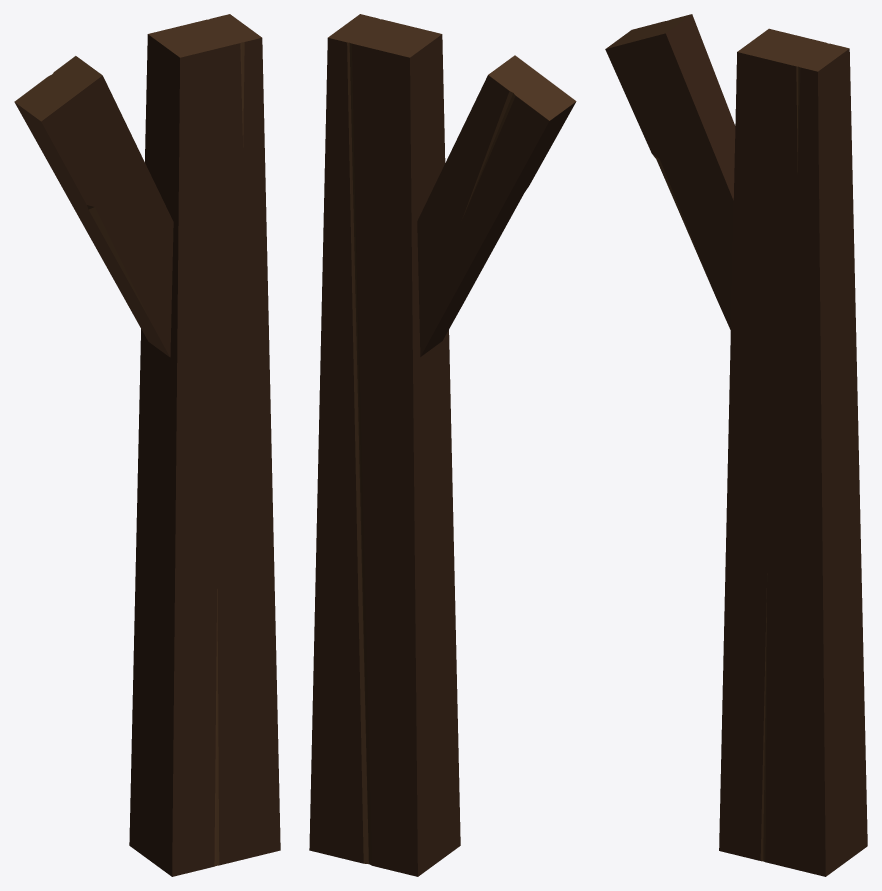
Rendered from Cave_Lair_Wooden_Timber_Beam_02.fbx.
3 renders of one model, left to right at view 1: azimuth 30°, elevation 25°; view 2: azimuth 150°, elevation 25°; view 3: azimuth 330°, elevation 25°, orthographic.
Visible parts, largest first — view 1: Cave_Lair_Wooden_Timber_Beam_02; view 2: Cave_Lair_Wooden_Timber_Beam_02; view 3: Cave_Lair_Wooden_Timber_Beam_02.
Boxes of the visible parts, box(x1,y1,x2,y2) form: Cave_Lair_Wooden_Timber_Beam_02: box(14, 14, 280, 876); Cave_Lair_Wooden_Timber_Beam_02: box(309, 14, 576, 876); Cave_Lair_Wooden_Timber_Beam_02: box(605, 14, 867, 876).
Size of the model in its own units: 1.08 by 3.61 by 0.344.
